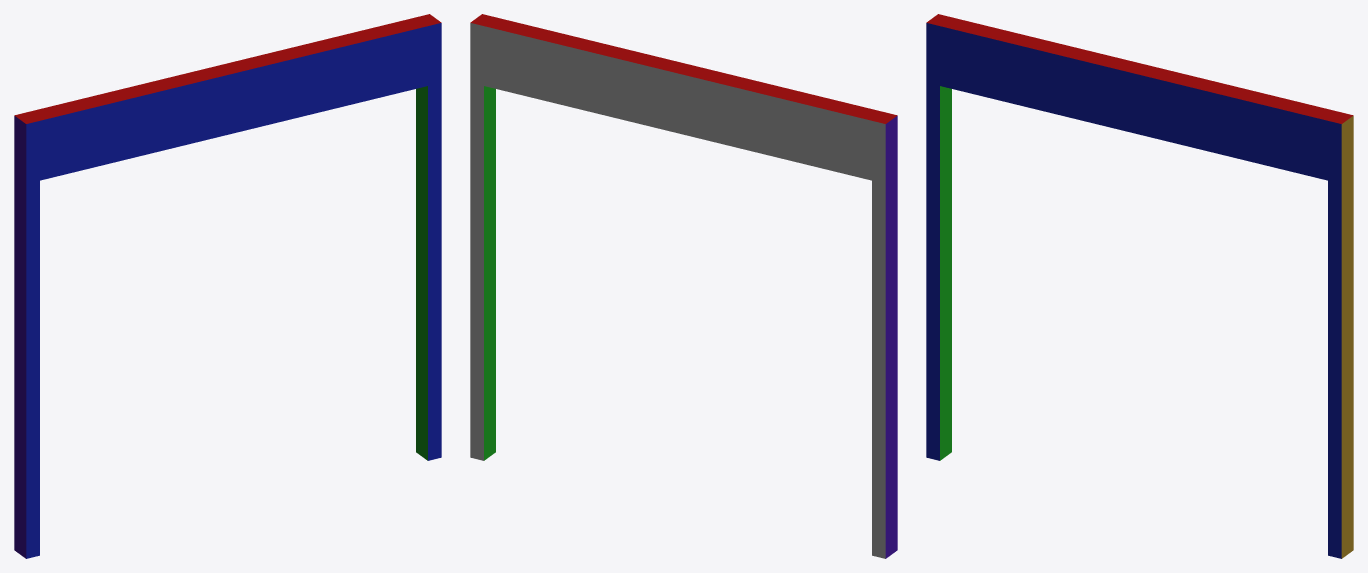
The model's file is Wall_Door_04a.fbx.
The picture shows the model from 3 angles, left to right: view 1: azimuth 30°, elevation 25°; view 2: azimuth 150°, elevation 25°; view 3: azimuth 330°, elevation 25°; orthographic projection.
Parts seen in each view (by area): view 1: Wall_Door_04a; view 2: Wall_Door_04a; view 3: Wall_Door_04a.
Boxes of the visible parts, x1,y1,x2,y2 form: Wall_Door_04a: (14,14,441,558); Wall_Door_04a: (470,14,897,558); Wall_Door_04a: (926,14,1353,558).
Size of the model in its own units: 3 by 0.15 by 3.
